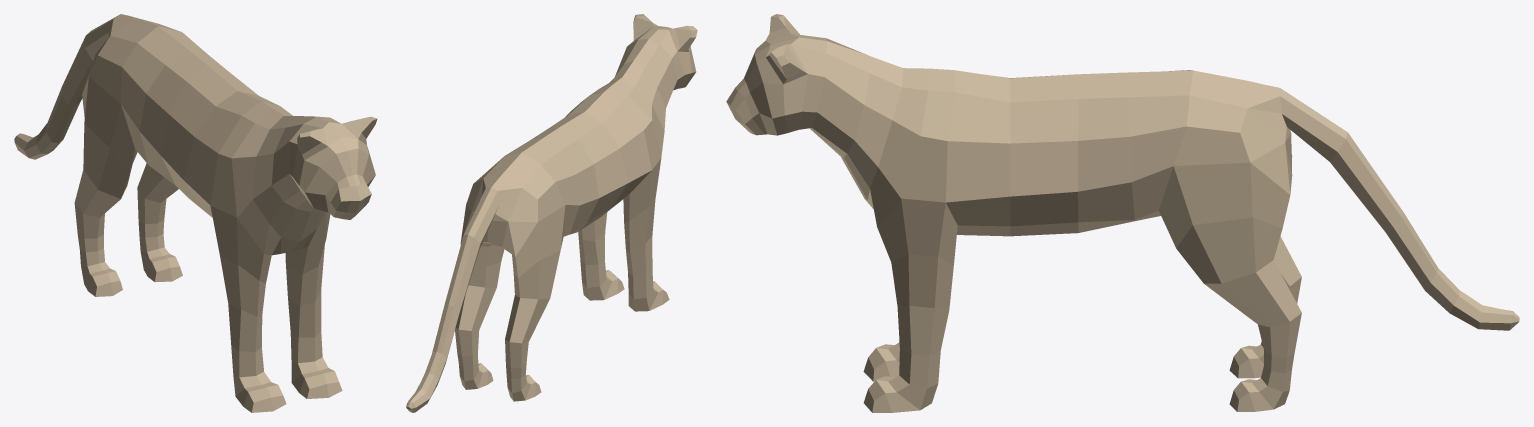
File: baize.glb
3 renders of one model, left to right at view 1: azimuth 30°, elevation 25°; view 2: azimuth 150°, elevation 25°; view 3: azimuth 270°, elevation 25°, orthographic. The views are drawn at different scales.
Visible parts, largest first — view 1: Cougar_mesh; view 2: Cougar_mesh; view 3: Cougar_mesh.
Boxes of the visible parts, x1,y1,x2,y2 form: Cougar_mesh: [14, 14, 377, 412]; Cougar_mesh: [406, 14, 697, 412]; Cougar_mesh: [726, 14, 1519, 412].
Bounding box in the file's own units: 2.33 × 6.2 × 12.56.
